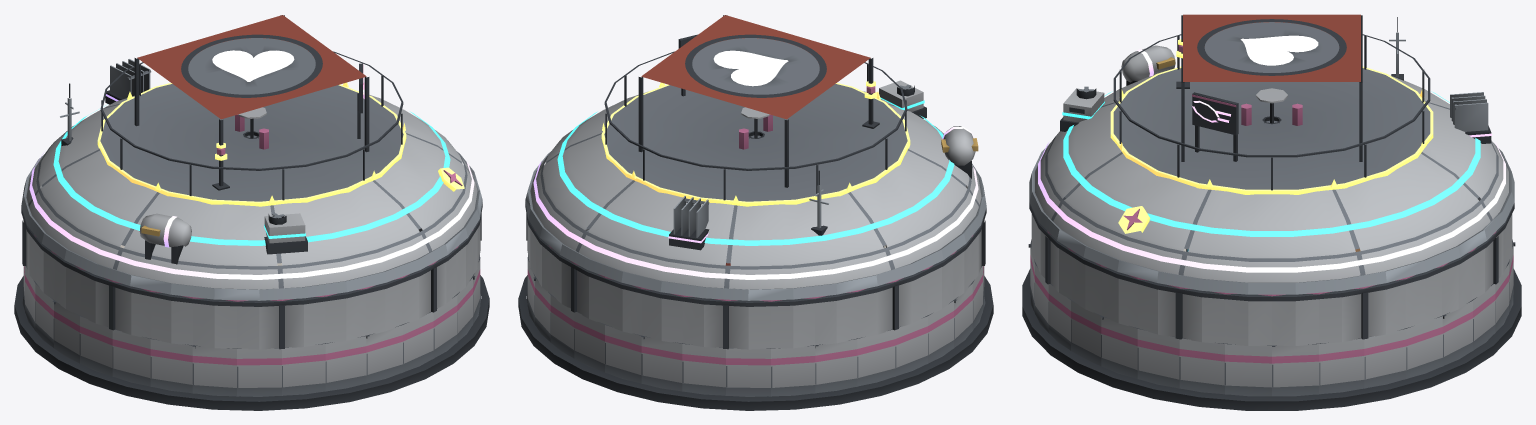
Rendered from cantina_s_far.glb.
The picture shows the model from 3 angles, left to right: view 1: azimuth 30°, elevation 25°; view 2: azimuth 150°, elevation 25°; view 3: azimuth 270°, elevation 25°; orthographic projection. The views are drawn at different scales.
Parts seen in each view (by area): view 1: Roof, Base, L2, L4, L3, L5; view 2: Roof, Base, L2, L4, L3, L5; view 3: Roof, Base, L2, L4, L3, L5.
Part boxes in pixels (box(x1,y1,x2,y2)): Roof: box(21, 15, 482, 349); Base: box(14, 228, 489, 410); L2: box(21, 83, 482, 300); L4: box(29, 59, 474, 279); L3: box(53, 104, 450, 254); L5: box(97, 82, 464, 206); Roof: box(525, 15, 986, 349); Base: box(518, 228, 993, 410); L2: box(525, 151, 986, 300); L4: box(533, 126, 978, 279); L3: box(557, 80, 954, 245); L5: box(601, 81, 910, 206); Roof: box(1029, 14, 1514, 345); Base: box(1022, 197, 1521, 410); L2: box(1029, 17, 1514, 294); L4: box(1038, 45, 1505, 272); L3: box(1060, 86, 1480, 236); L5: box(1110, 39, 1433, 233).
Size of the model in its own units: 11.74 by 6.78 by 11.74.
